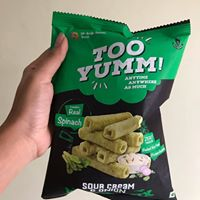plastic: (54, 14, 169, 195)
tooyumm: (79, 35, 171, 82)
wrapper: (44, 23, 190, 194)
